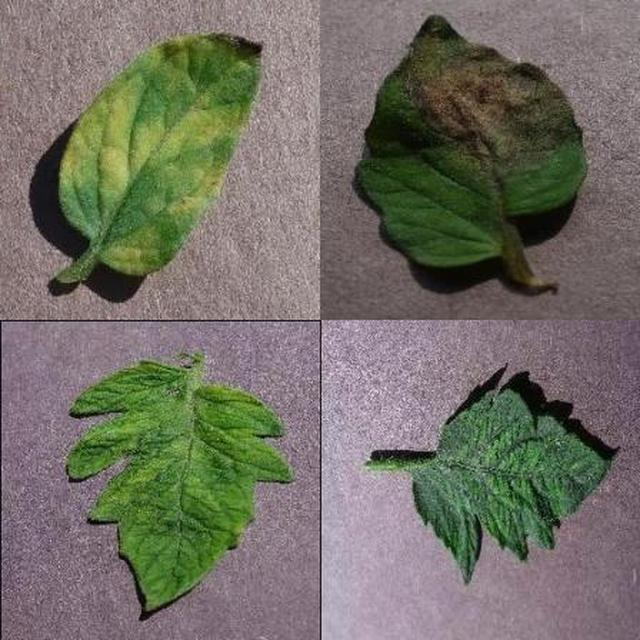Leaf Mold: (233, 198, 640, 640)
